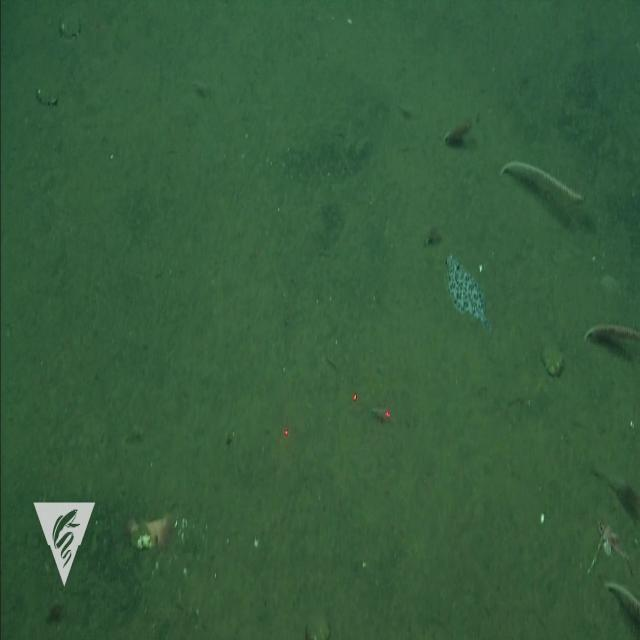Not Brittle Star: (500, 156, 584, 207), (444, 251, 490, 330), (124, 512, 173, 556), (596, 514, 634, 569), (597, 462, 640, 506), (583, 319, 640, 348), (606, 574, 640, 622), (539, 337, 569, 385), (441, 114, 473, 150), (32, 76, 61, 110), (57, 8, 86, 42), (424, 219, 443, 247), (384, 407, 392, 424), (352, 390, 359, 405), (282, 426, 290, 438)
